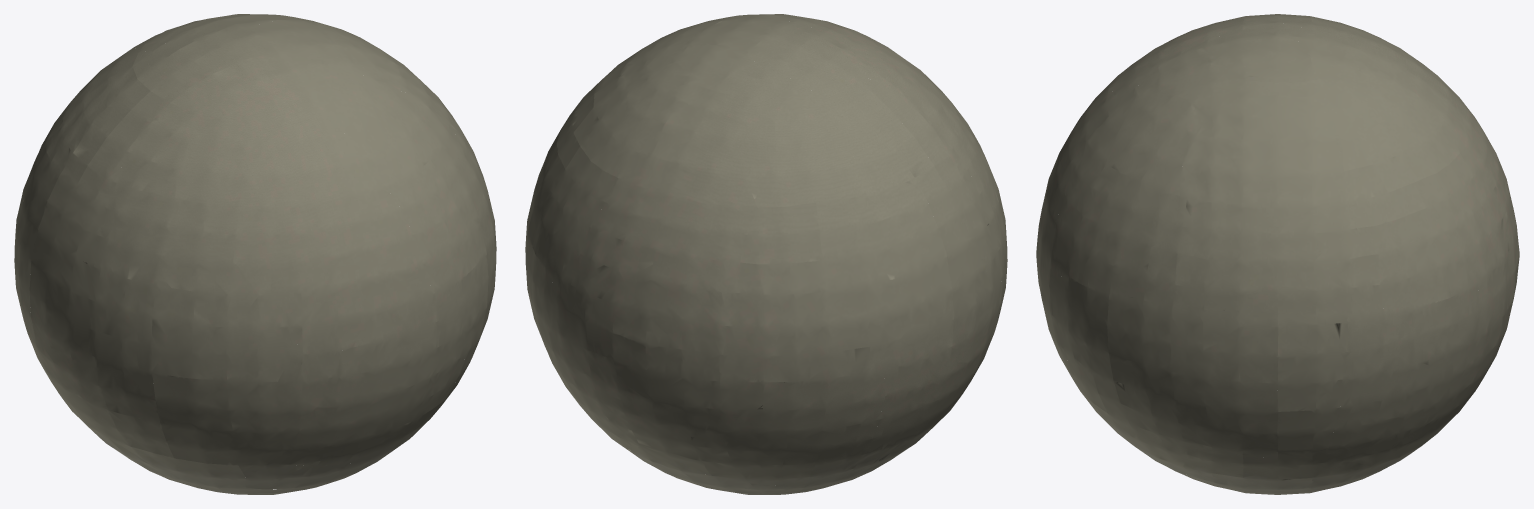
The model's file is planet_venus.glb.
The picture shows the model from 3 angles, left to right: view 1: azimuth 30°, elevation 25°; view 2: azimuth 150°, elevation 25°; view 3: azimuth 270°, elevation 25°; orthographic projection.
Visible parts, largest first — view 1: tripo_node_c854a3c9-640a-4091-a5d3-68938bd25ae7; view 2: tripo_node_c854a3c9-640a-4091-a5d3-68938bd25ae7; view 3: tripo_node_c854a3c9-640a-4091-a5d3-68938bd25ae7.
Boxes of the visible parts, <box> form: tripo_node_c854a3c9-640a-4091-a5d3-68938bd25ae7: <box>14,14,496,494</box>; tripo_node_c854a3c9-640a-4091-a5d3-68938bd25ae7: <box>525,14,1007,494</box>; tripo_node_c854a3c9-640a-4091-a5d3-68938bd25ae7: <box>1036,14,1519,494</box>.
Bounding box in the file's own units: 0.9801 × 0.9801 × 0.9802.
1 material, 1 textured.
